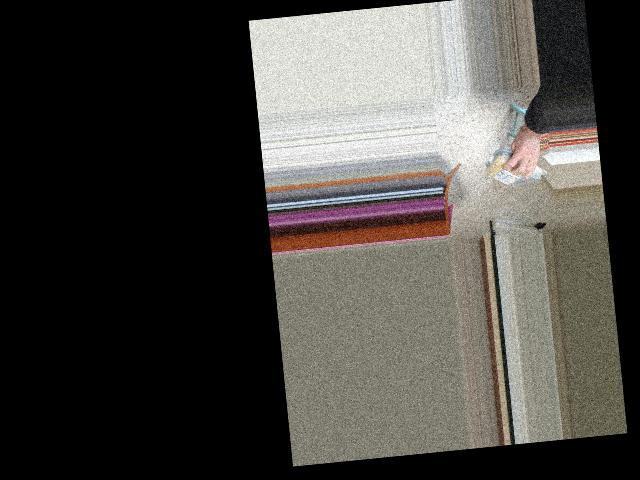cheese: (479, 153, 544, 188)
